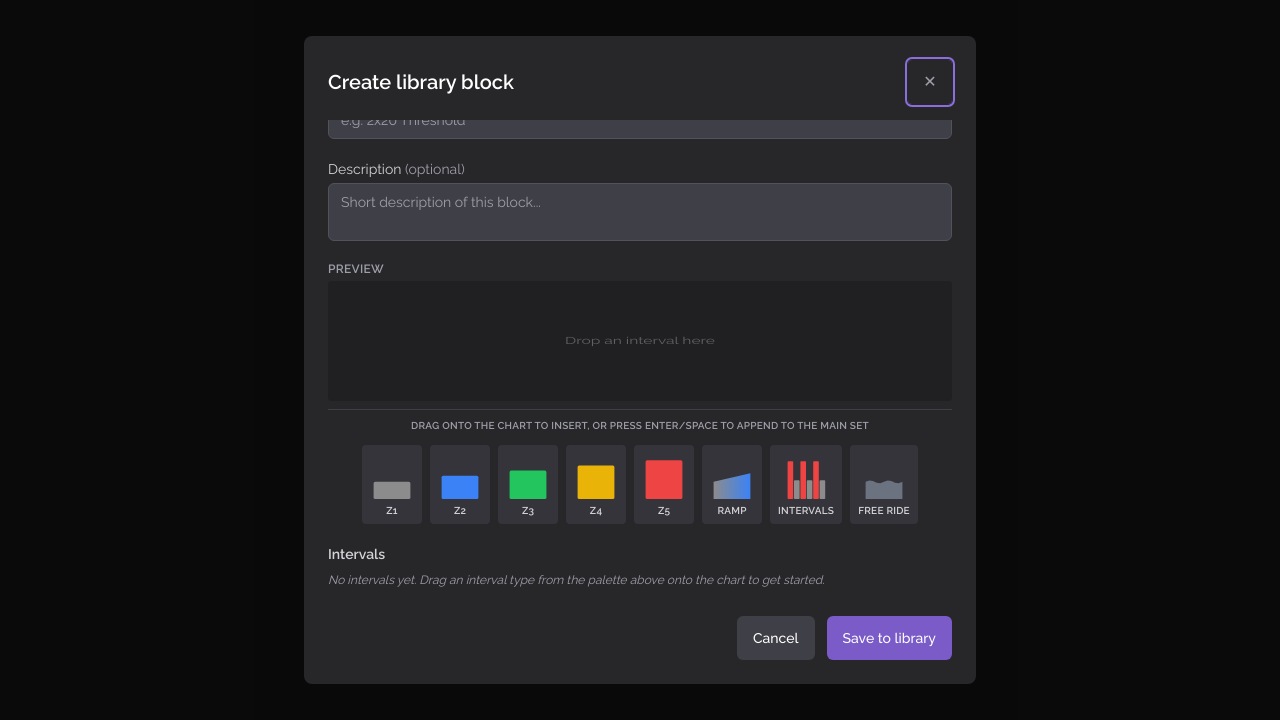
Scenario: CreateBlockModal › form validation › shows a validation error when the name is empty and Save is clicked
This screenshot has width=1280, height=720.
(page scrolled)
Step 1. Click the button "Save to library" → [889, 638], box [827,616,952,660]
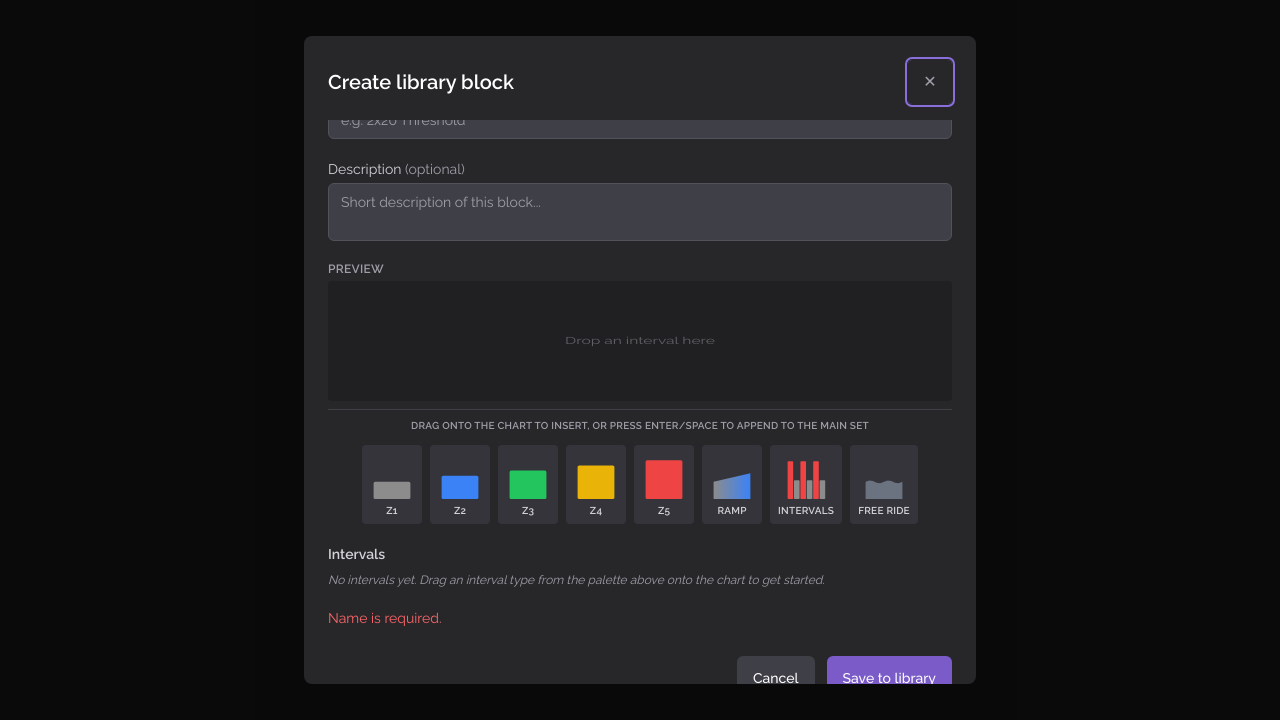
expect the message reads "Name is required.": met, box [328,610,442,626]
